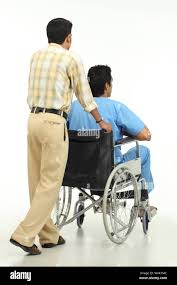wheelchair: (50, 64, 158, 244)
